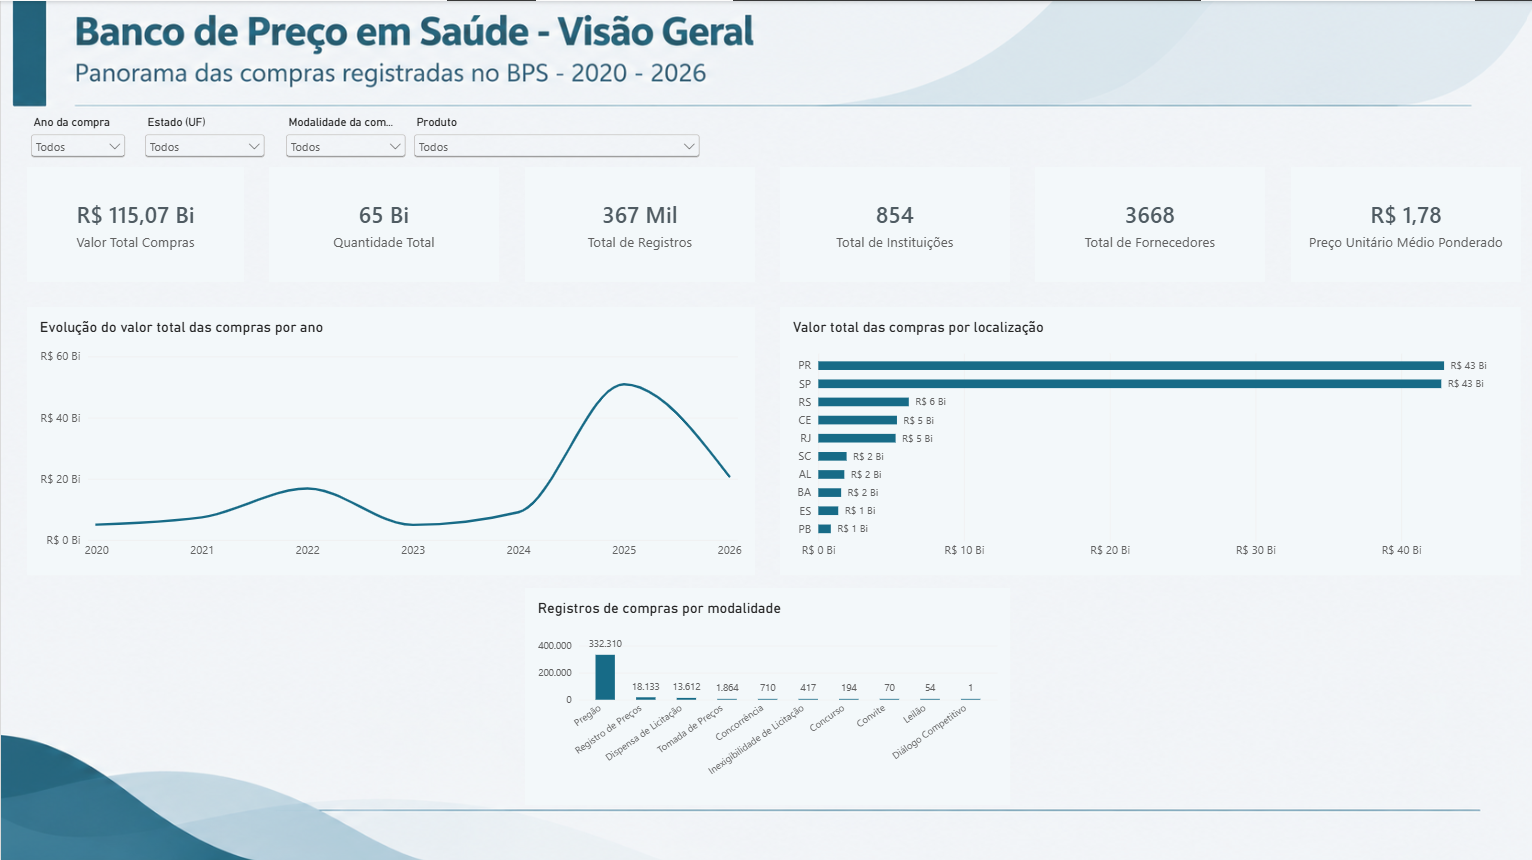

The page's visual inventory and layout, read from the dashboard file:
{"tool":"powerbi","page":{"name":"Visão Geral","canvas":[1920,1080],"ordinal":0},"visuals":[{"type":"card","fields":{"Values":["dados.Valor Total Compras"]},"box":[32,208,272,144],"z":0},{"type":"card","fields":{"Values":["dados.Quantidade Total"]},"box":[336,208,288,144],"z":1000},{"type":"card","fields":{"Values":["dados.Total de Instituições"]},"box":[976,208,288,144],"z":2000},{"type":"card","fields":{"Values":["dados.Total de Fornecedores"]},"box":[1296,208,288,144],"z":3000},{"type":"card","fields":{"Values":["dados.Total de Registros"]},"box":[656,208,288,144],"z":4000},{"type":"card","fields":{"Values":["dados.Preço Unitário Médio Ponderado"]},"box":[1616,208,288,144],"z":5000},{"type":"slicer","fields":{"Values":["dados.ano_compra"]},"box":[32,144,128,80],"z":8000},{"type":"slicer","fields":{"Values":["dados.sg_uf"]},"box":[176,144,160,80],"z":9000},{"type":"slicer","fields":{"Values":["dados.modalidade"]},"box":[352,144,160,80],"z":10000},{"type":"slicer","fields":{"Values":["dados.Item Resumido"]},"box":[512,144,368,96],"z":11000},{"type":"lineChart","title":"Evolução do valor total das compras por ano","fields":{"Category":["dados.ano_compra"],"Y":["dados.Valor Total Compras"]},"box":[32,384,912,336],"z":12000},{"type":"clusteredBarChart","title":"Valor total das compras por localização","fields":{"Category":["dados.sg_uf","dados.no_municipio"],"Y":["dados.Valor Total Compras"]},"box":[976,384,928,336],"z":13000},{"type":"clusteredColumnChart","title":"Registros de compras por modalidade","fields":{"Category":["dados.modalidade"],"Y":["dados.Total de Registros"]},"box":[656,736,608,272],"z":14000}]}

Visuals, with their boxes in screenshot pixels (x1, y1, x2, y2), scaled from the page's 1920x1080 canvas onto the 1532x860 screenshot:
card - dados.Valor Total Compras: bbox=[26, 166, 243, 280]
card - dados.Quantidade Total: bbox=[268, 166, 498, 280]
card - dados.Total de Instituições: bbox=[779, 166, 1009, 280]
card - dados.Total de Fornecedores: bbox=[1034, 166, 1264, 280]
card - dados.Total de Registros: bbox=[523, 166, 753, 280]
card - dados.Preço Unitário Médio Ponderado: bbox=[1289, 166, 1519, 280]
slicer - dados.ano_compra: bbox=[26, 115, 128, 178]
slicer - dados.sg_uf: bbox=[140, 115, 268, 178]
slicer - dados.modalidade: bbox=[281, 115, 409, 178]
slicer - dados.Item Resumido: bbox=[409, 115, 702, 191]
"Evolução do valor total das compras por ano" lineChart: bbox=[26, 306, 753, 573]
"Valor total das compras por localização" clusteredBarChart: bbox=[779, 306, 1519, 573]
"Registros de compras por modalidade" clusteredColumnChart: bbox=[523, 586, 1009, 803]
